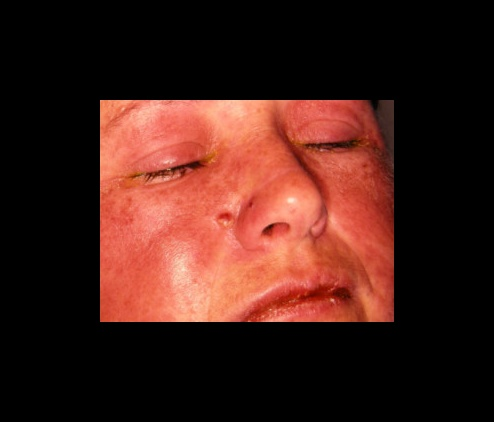SJS-TEN: (97, 96, 397, 324)
